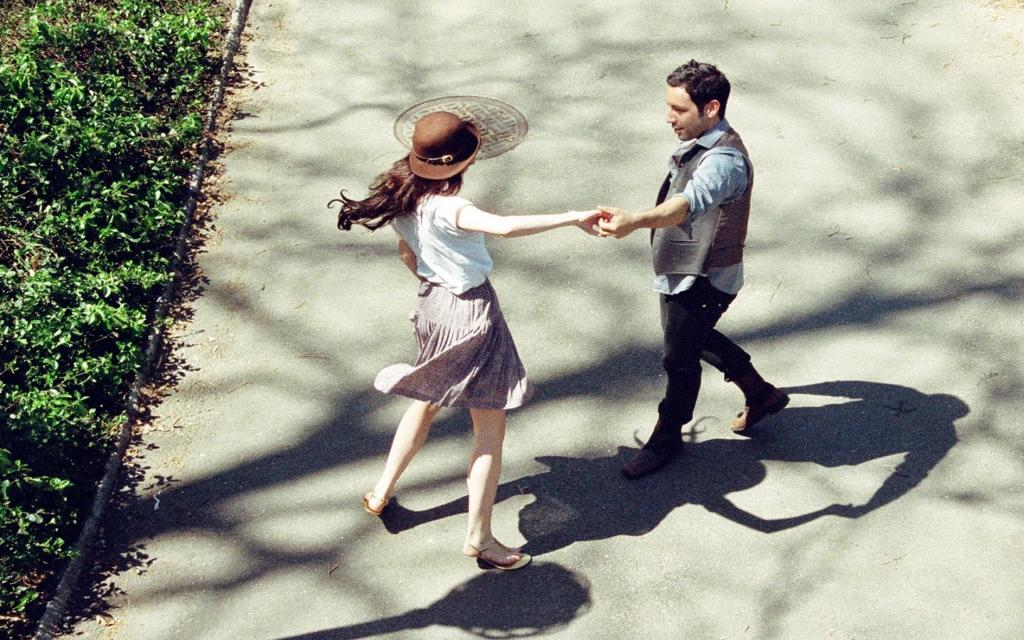face: (665, 83, 704, 141)
